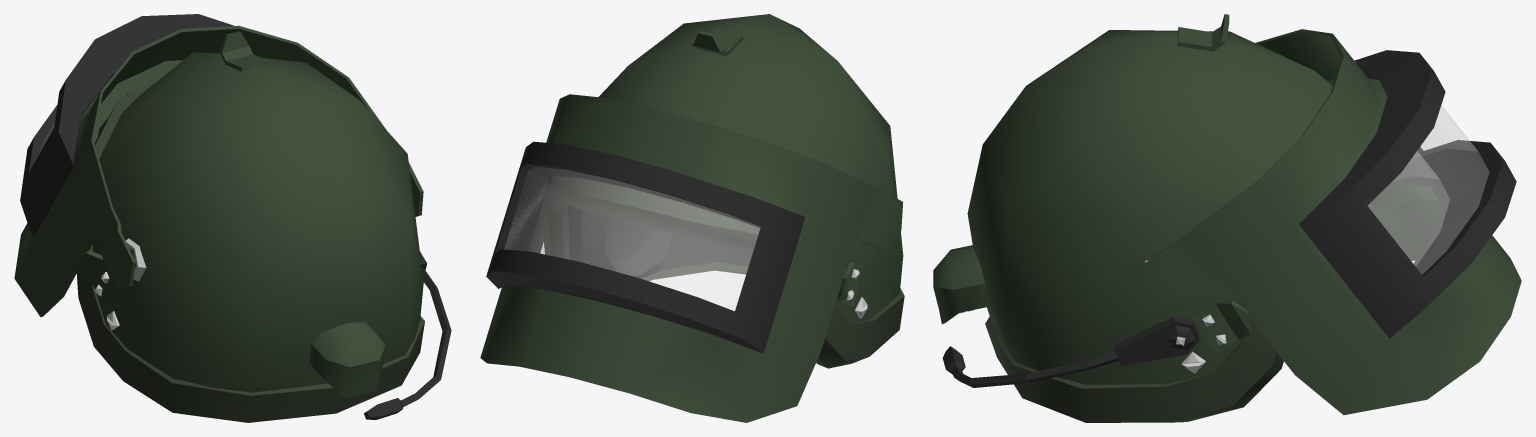
File: low-poly_altyn_helmet.glb
3 views of the same model, side by side, from view 1: azimuth 30°, elevation 25°; view 2: azimuth 150°, elevation 25°; view 3: azimuth 270°, elevation 25° (orthographic). The views are drawn at different scales.
Visible parts, largest first — view 1: main_0, visor_1, microphone_2; view 2: visor_1, main_0; view 3: main_0, visor_1, microphone_2.
Boxes of the visible parts, box(x1,y1,x2,y2) form: main_0: box(75, 31, 424, 422); visor_1: box(14, 14, 423, 317); microphone_2: box(364, 251, 451, 419); visor_1: box(480, 94, 903, 422); main_0: box(542, 14, 904, 368); main_0: box(933, 14, 1332, 422); visor_1: box(1126, 29, 1521, 415); microphone_2: box(942, 316, 1199, 387).
Size of the model in its own units: 0.2591 by 0.2541 by 0.3974.
